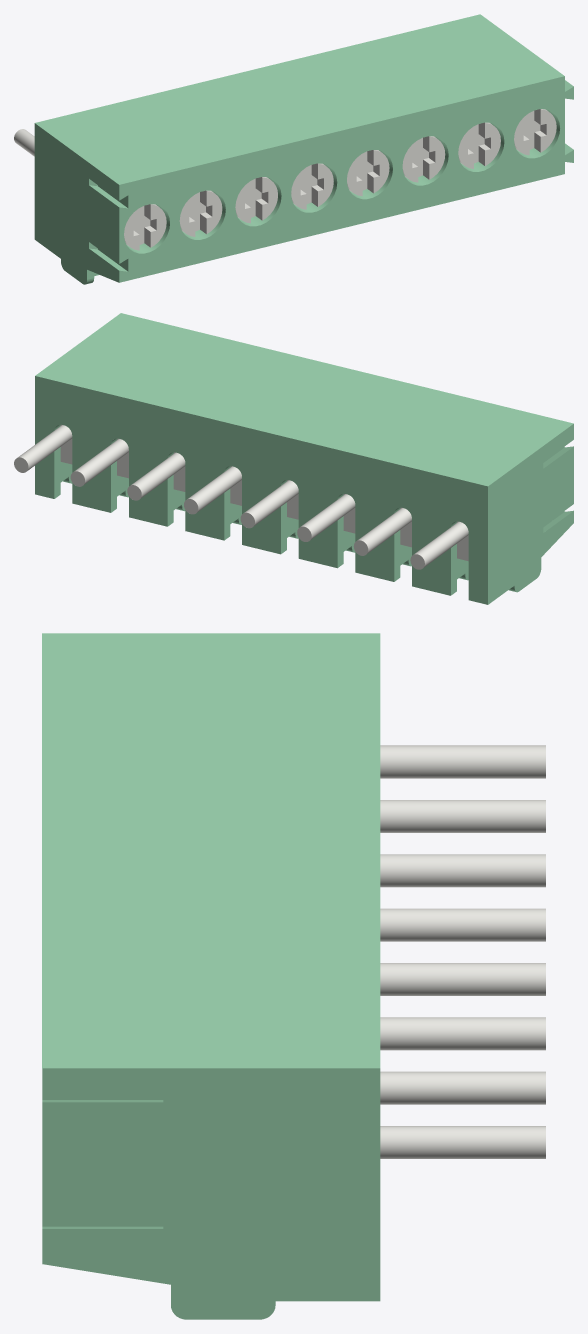
The model's file is TerminalBlock_Phoenix_PT-1,5-8-3.5-H_1x08_P3.50mm_Horizontal.glb.
3 views of the same model, one above another, from view 1: azimuth 30°, elevation 25°; view 2: azimuth 150°, elevation 25°; view 3: azimuth 270°, elevation 25° (orthographic). The views are drawn at different scales.
Visible parts, largest first — view 1: Shape_IndexedFaceSet.002, Shape_IndexedFaceSet.053, Shape_IndexedFaceSet.001, Shape_IndexedFaceSet.357, Shape_IndexedFaceSet.308, Shape_IndexedFaceSet.336, Shape_IndexedFaceSet.315, Shape_IndexedFaceSet.329, Shape_IndexedFaceSet.322, Shape_IndexedFaceSet.333, Shape_IndexedFaceSet.319, Shape_IndexedFaceSet.350 (+11 smaller); view 2: Shape_IndexedFaceSet.002, Shape_IndexedFaceSet, Shape_IndexedFaceSet.001, Shape_IndexedFaceSet.187, Shape_IndexedFaceSet.162, Shape_IndexedFaceSet.177, Shape_IndexedFaceSet.152, Shape_IndexedFaceSet.157, Shape_IndexedFaceSet.182, Shape_IndexedFaceSet.167, Shape_IndexedFaceSet.172; view 3: Shape_IndexedFaceSet.002, Shape_IndexedFaceSet.003, Shape_IndexedFaceSet.157, Shape_IndexedFaceSet.162, Shape_IndexedFaceSet.172, Shape_IndexedFaceSet.177, Shape_IndexedFaceSet.187, Shape_IndexedFaceSet.152, Shape_IndexedFaceSet.167, Shape_IndexedFaceSet.182, Shape_IndexedFaceSet.126, Shape_IndexedFaceSet.125.
Part boxes in pixels (x1,y1,x2,y2): Shape_IndexedFaceSet.002: [35, 14, 564, 184]; Shape_IndexedFaceSet.053: [119, 76, 573, 282]; Shape_IndexedFaceSet.001: [34, 123, 119, 284]; Shape_IndexedFaceSet.357: [540, 109, 556, 152]; Shape_IndexedFaceSet.308: [150, 204, 166, 247]; Shape_IndexedFaceSet.336: [373, 150, 389, 192]; Shape_IndexedFaceSet.315: [206, 191, 222, 233]; Shape_IndexedFaceSet.329: [429, 136, 445, 179]; Shape_IndexedFaceSet.322: [262, 177, 277, 220]; Shape_IndexedFaceSet.333: [402, 140, 418, 182]; Shape_IndexedFaceSet.319: [179, 194, 195, 236]; Shape_IndexedFaceSet.350: [485, 123, 500, 165]; Shape_IndexedFaceSet.002: [35, 313, 573, 486]; Shape_IndexedFaceSet: [35, 376, 487, 604]; Shape_IndexedFaceSet.001: [488, 424, 573, 604]; Shape_IndexedFaceSet.187: [414, 521, 468, 567]; Shape_IndexedFaceSet.162: [131, 452, 185, 498]; Shape_IndexedFaceSet.177: [301, 494, 355, 540]; Shape_IndexedFaceSet.152: [17, 425, 72, 470]; Shape_IndexedFaceSet.157: [74, 439, 128, 484]; Shape_IndexedFaceSet.182: [357, 508, 411, 553]; Shape_IndexedFaceSet.167: [187, 466, 241, 512]; Shape_IndexedFaceSet.172: [244, 480, 298, 525]; Shape_IndexedFaceSet.002: [42, 633, 380, 1068]; Shape_IndexedFaceSet.003: [42, 1068, 380, 1319]; Shape_IndexedFaceSet.157: [380, 1071, 545, 1104]; Shape_IndexedFaceSet.162: [380, 1017, 545, 1050]; Shape_IndexedFaceSet.172: [380, 908, 545, 941]; Shape_IndexedFaceSet.177: [380, 854, 545, 887]; Shape_IndexedFaceSet.187: [380, 745, 545, 778]; Shape_IndexedFaceSet.152: [380, 1126, 545, 1158]; Shape_IndexedFaceSet.167: [380, 963, 545, 995]; Shape_IndexedFaceSet.182: [380, 800, 545, 832]; Shape_IndexedFaceSet.126: [42, 1102, 163, 1128]; Shape_IndexedFaceSet.125: [42, 1229, 163, 1255].
Size of the model in its own units: 11.25 by 2.97 by 5.39.
